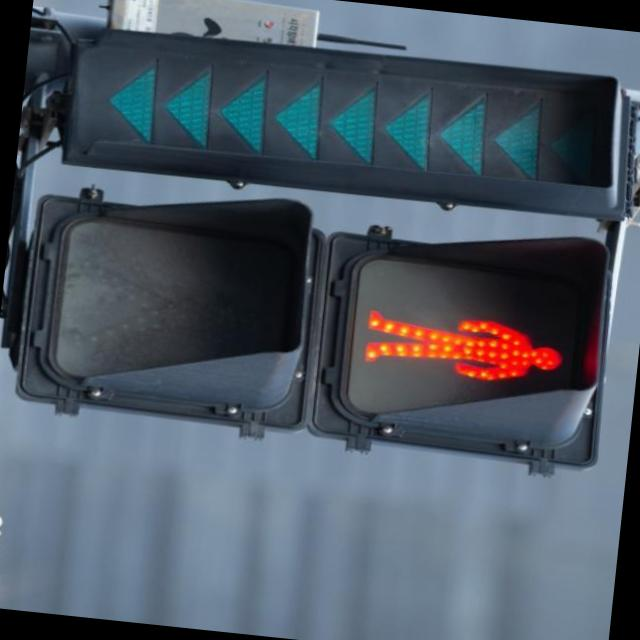red_light: (354, 270, 571, 407)
